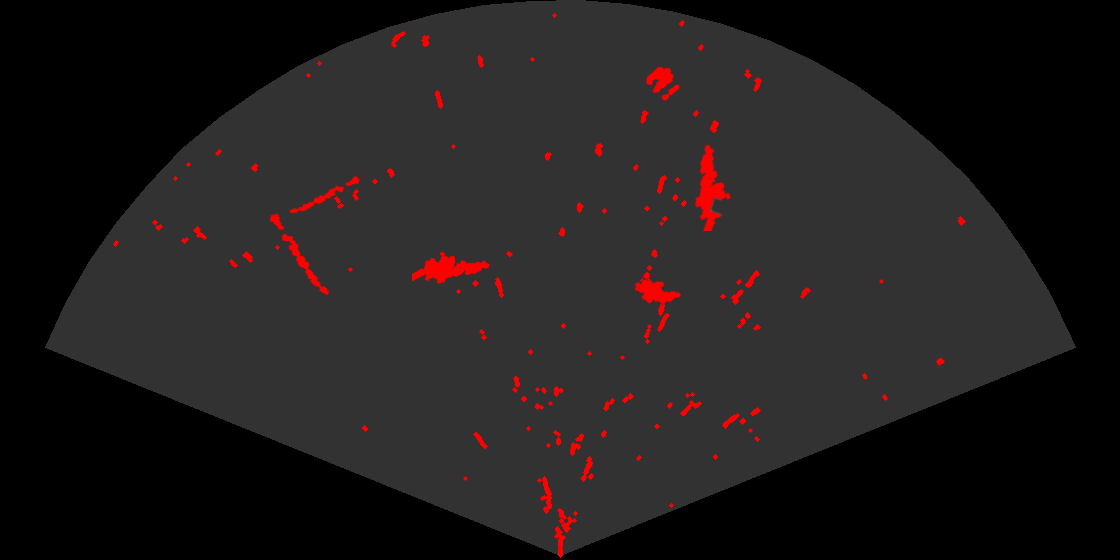AUV: (633, 278, 683, 305)
ball: (645, 65, 681, 102)
chain: (268, 212, 331, 297), (288, 173, 367, 215)
frogman: (693, 143, 733, 231), (412, 250, 492, 285)
